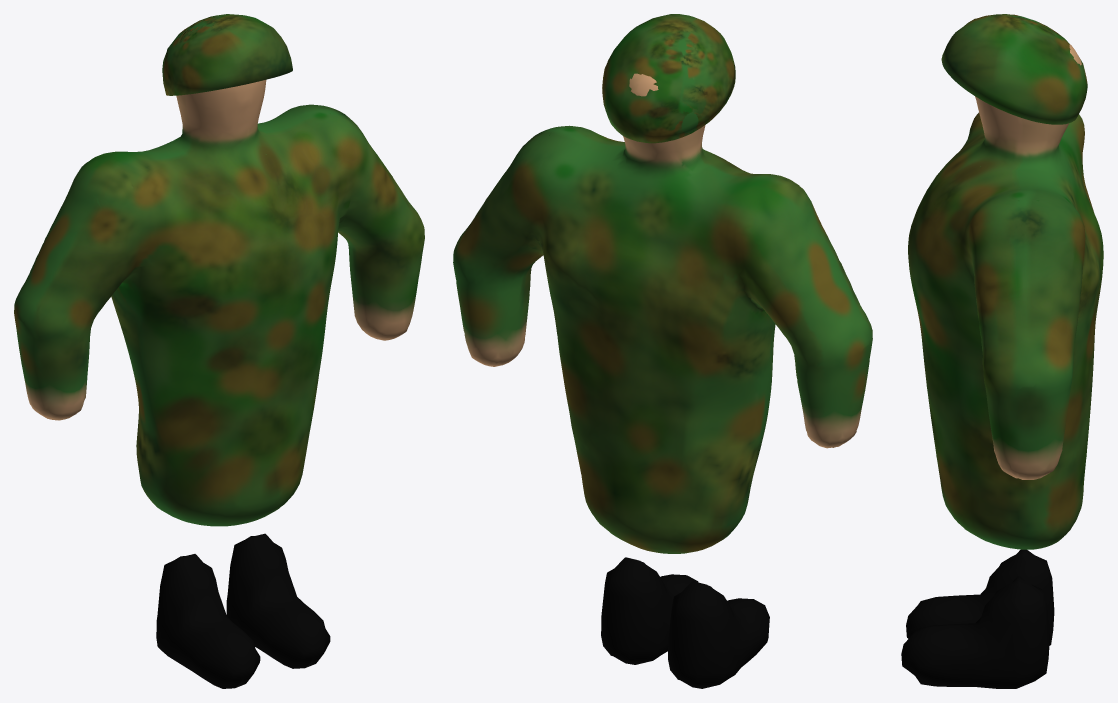
File: Soldier012.fbx
3 views of the same model, side by side, from view 1: azimuth 30°, elevation 25°; view 2: azimuth 150°, elevation 25°; view 3: azimuth 270°, elevation 25° (orthographic). The views are drawn at different scales.
Visible parts, largest first — view 1: Sold012; view 2: Sold012; view 3: Sold012.
Boxes of the visible parts, x1=… form: Sold012: x1=14, y1=14, x2=424, y2=688; Sold012: x1=453, y1=14, x2=872, y2=688; Sold012: x1=901, y1=14, x2=1103, y2=688.
Size of the model in its own units: 166 by 254 by 71.11.
Materials: 2 (2 with a texture image).
